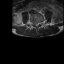CCS_stenosis: (36, 22, 37, 28)
LFS_stenosis: (39, 21, 40, 25)
LLS_normal: (37, 22, 39, 27)
RFS_severe_stenosis: (33, 22, 35, 26)
RLS_severe_stenosis: (35, 22, 36, 27)
